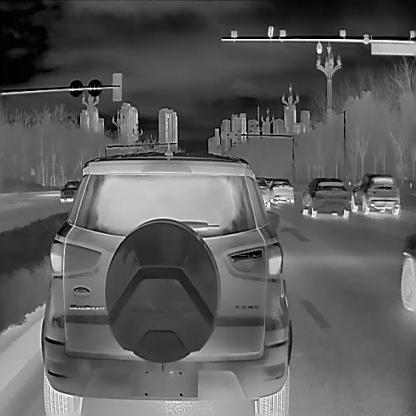car: (41, 152, 293, 415), (350, 172, 400, 217), (300, 176, 349, 217), (399, 233, 415, 312), (268, 177, 293, 203), (254, 176, 269, 206), (59, 180, 78, 201)
